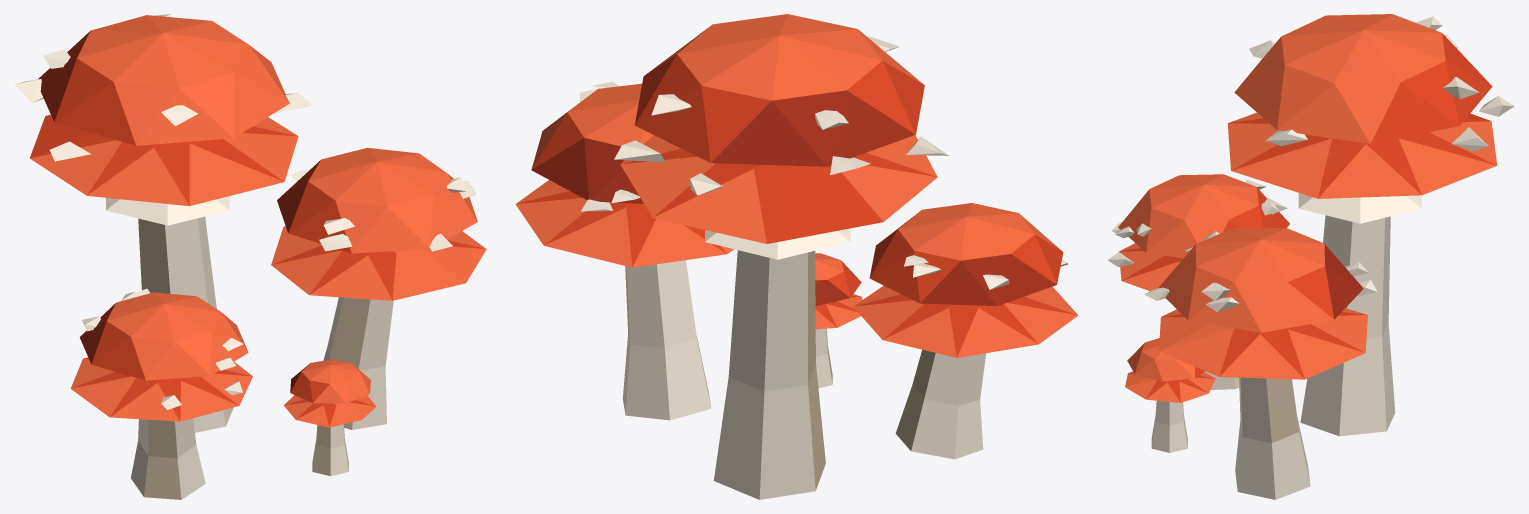
Rendered from mushroom_redGroup.glb.
The picture shows the model from 3 angles, left to right: view 1: azimuth 30°, elevation 25°; view 2: azimuth 150°, elevation 25°; view 3: azimuth 270°, elevation 25°; orthographic projection. The views are drawn at different scales.
Parts seen in each view (by area): view 1: mushroom_redGroup.002; view 2: mushroom_redGroup.002; view 3: mushroom_redGroup.002.
Boxes of the visible parts, bbox=[...] form: mushroom_redGroup.002: bbox=[14, 14, 486, 499]; mushroom_redGroup.002: bbox=[515, 14, 1078, 499]; mushroom_redGroup.002: bbox=[1107, 14, 1514, 499].
Bounding box in the file's own units: 0.4463 × 0.4 × 0.3853.
